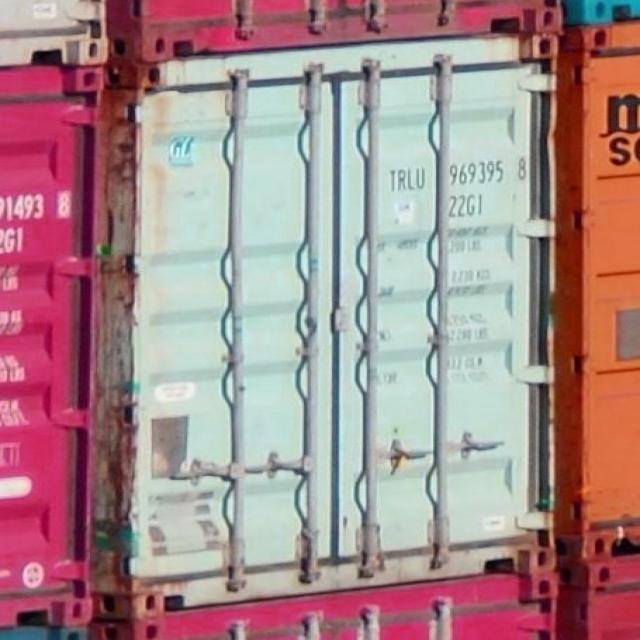ISO: (448, 193, 486, 220), (1, 227, 26, 254)
container_number: (388, 162, 526, 189), (1, 194, 70, 223)
